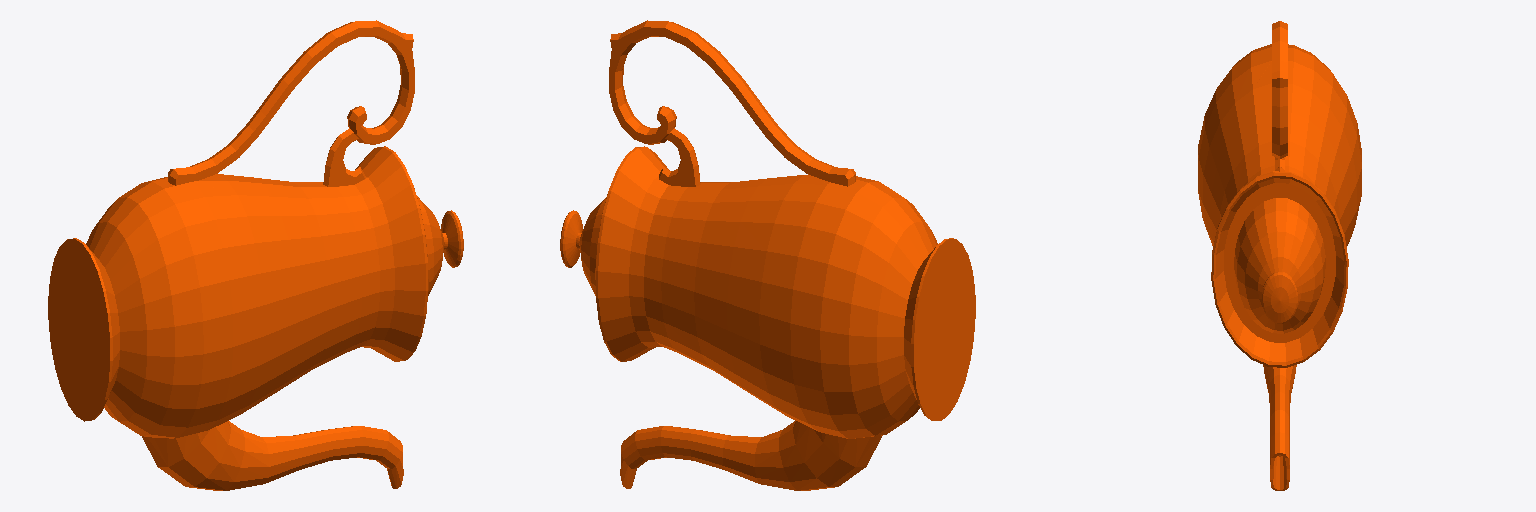
URDF robot description (2024-09-16_2_Teapot_3d2):
<?xml version="1.0" ?>
<robot name="2024-09-16_2_Teapot_3d2">
   <material name="obj_color">
      <color rgba="1.0 0.423529411765 0.0392156862745 1.0"/>
   </material>
   <link name="top">
      <inertial>
         <origin rpy="-0.001365417894019632 -0.001033429558181152 -0.0005786746375783513" xyz="0.05996714215943829 0.02999895943527443 0.0871324604135687"/>
         <mass value="-0.7919436426230746"/>
         <inertia ixx="-0.0005790386574700043" ixy="3.863830568167208e-10" ixz="1.286107796267021e-05" iyy="-0.00136541789401926" iyz="-2.402316139747419e-10" izz="-0.001033065538289872"/>
      </inertial>
      <visual>
         <origin rpy="0 0 0" xyz="0 0 0"/>
         <geometry>
            <mesh filename="top_watertight_tiny.stl" scale="1 1 1"/>
         </geometry>
         <material name="obj_color"/>
      </visual>
      <collision>
         <origin rpy="0 0 0" xyz="0 0 0"/>
         <geometry>
            <mesh filename="top_watertight_tiny.obj" scale="1 1 1"/>
         </geometry>
      </collision>
   </link>
   <link name="bottom">
      <inertial>
         <origin rpy="1.633333333199431e-08 1.633333333199431e-08 1.633333333362855e-08" xyz="0.3464080000000008 0.3464080000000008 0.3464080000000008"/>
         <mass value="0.0009800000000000017"/>
         <inertia ixx="1.633333333253906e-08" ixy="5.447480642029219e-19" ixz="5.447480642029219e-19" iyy="1.633333333253906e-08" iyz="5.447480642029219e-19" izz="1.633333333253906e-08"/>
      </inertial>
      <visual>
         <origin rpy="0 0 0" xyz="0 0 0"/>
         <geometry>
            <mesh filename="bottom_watertight_tiny.stl" scale="1 1 1"/>
         </geometry>
         <material name="obj_color"/>
      </visual>
   </link>
   <link name="world"/>
   <joint name="world_to_base" type="fixed">
      <origin xyz="0 0 0"/>
      <axis xyz="0 0 0"/>
      <parent link="world"/>
      <child link="bottom"/>
   </joint>
   <joint name="rotation" type="revolute">
      <origin xyz="0 0 0"/>
      <axis xyz="0 0 -1"/>
      <parent link="bottom"/>
      <child link="top"/>
      <dynamics damping="1.0" friction="1.0"/>
      <limit effort="0.1" velocity="0.1" lower="0" upper="0.001"/>
   </joint>
</robot>

--- What the picture shows (computed from the rendered views, not written in the file) ---
The picture shows the robot from 3 angles, left to right: view 1: azimuth 30°, elevation 25°; view 2: azimuth 150°, elevation 25°; view 3: azimuth 270°, elevation 25°; orthographic projection.
Robot: 2024-09-16_2_Teapot_3d2 — 3 links, 2 joints (1 revolute, 1 fixed); root link world; default pose: all joints at 0.
Links seen in each view (by area): view 1: top; view 2: top; view 3: top.
Link boxes in pixels (x1,y1,x2,y2): top: [48, 20, 463, 490]; top: [560, 20, 975, 490]; top: [1198, 21, 1361, 490].
Bounding box of the posed robot: 0.15 × 0.06 × 0.18 m (x, y, z).
1 mesh visuals loaded from 2 distinct referenced files (1 binary STL); not drawn: 1 (reference not matched to a file when rendering).
